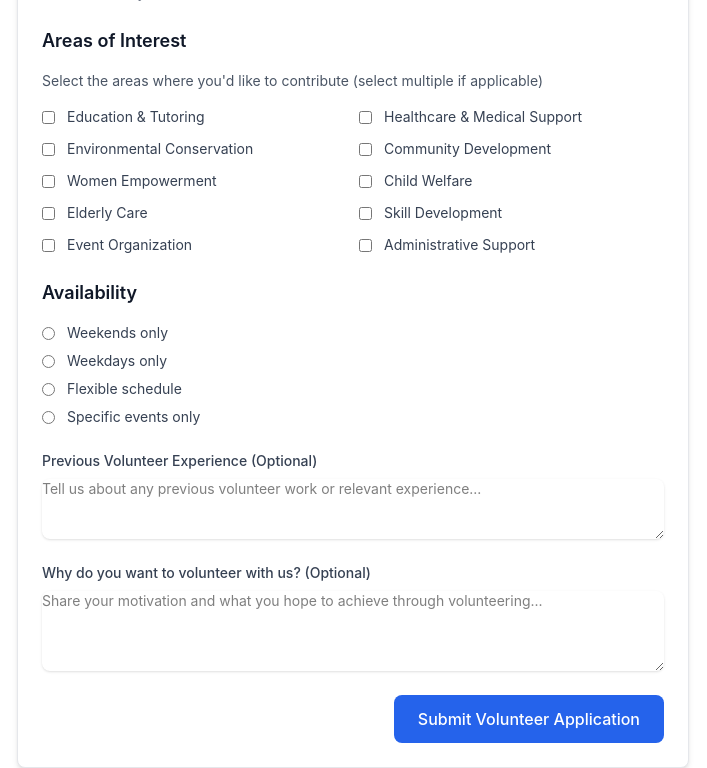
Scenario: VolunteerForm › shows validation errors for required fields
(page scrolled)
Click the button "Submit Volunteer Application": [529, 719] box [394, 695, 664, 743]
(page scrolled)
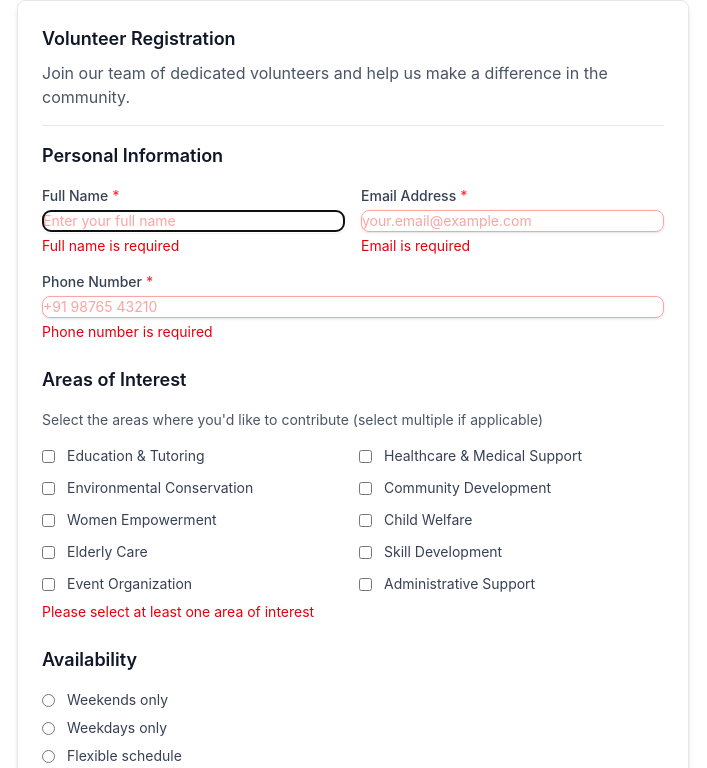
Check: the text "Full name is required" is shown, box [42, 237, 179, 254]
Check: the text "Email is required" is shown, box [361, 237, 470, 254]
Check: the text "Phone number is required" is shown, box [42, 323, 213, 340]
